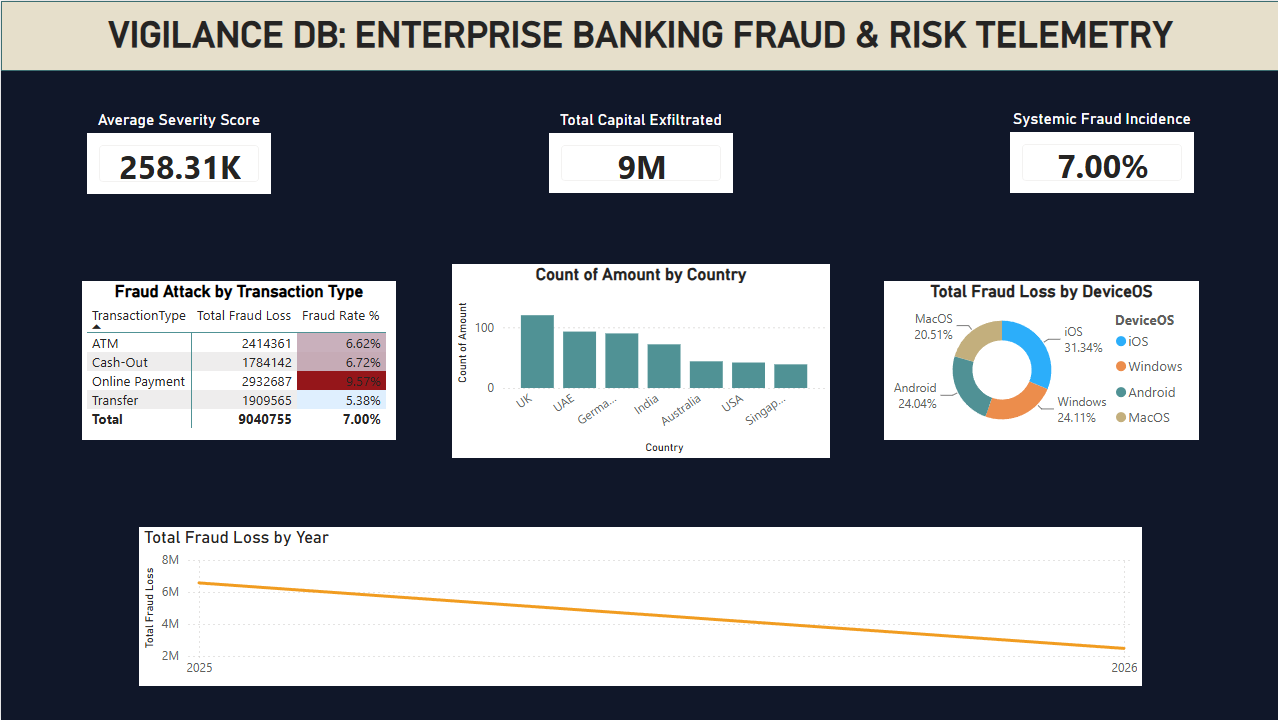

What the dashboard file says about the page in this screenshot:
{"tool":"powerbi","page":{"name":"Page 1","canvas":[1280,720],"ordinal":0},"visuals":[{"type":"shape","box":[0,0,1280,70],"z":0},{"type":"textbox","title":"VIGILANCE DB: ENTERPRISE BANKING FRAUD & RISK TELEMETRY","box":[81,12,1117,46],"z":1000},{"type":"cardVisual","title":"Total Capital Exfiltrated","fields":{"Data":["Dim_Customers.Total Fraud Loss"]},"box":[543,109,194,88],"z":2000},{"type":"cardVisual","title":" Systemic Fraud Incidence","fields":{"Data":["Dim_Customers.Fraud Rate %"]},"box":[1004,108,194,89],"z":3000},{"type":"cardVisual","title":"Average Severity Score","fields":{"Data":["Dim_Customers.Avg Fraud Attack Value"]},"box":[81,109,194,89],"z":4000},{"type":"pivotTable","title":"Fraud Attack by Transaction Type","fields":{"Rows":["Fact_Transactions.TransactionType"],"Values":["Dim_Customers.Total Fraud Loss","Dim_Customers.Fraud Rate %"]},"box":[81,280,314,159],"z":4001},{"type":"donutChart","fields":{"Category":["Dim_Devices.DeviceOS"],"Y":["Dim_Customers.Total Fraud Loss"]},"box":[883,280,315,159],"z":4002},{"type":"lineChart","fields":{"Category":["Fact_Transactions.Date.Variation.Date Hierarchy.Year","Fact_Transactions.Date.Variation.Date Hierarchy.Quarter","Fact_Transactions.Date.Variation.Date Hierarchy.Month","Fact_Transactions.Date.Variation.Date Hierarchy.Day"],"Y":["Dim_Customers.Total Fraud Loss"]},"box":[138,526,1003,159],"z":4003},{"type":"lineStackedColumnComboChart","fields":{"Y":["CountNonNull(Fact_Transactions.Amount)"],"Category":["Dim_Customers.Country"]},"box":[451,263,378,194],"z":4004}]}

Visuals, with their boxes in screenshot pixels (x1, y1, x2, y2), scaled from the page's 1280x720 canvas onto the 1278x720 screenshot:
shape: (0,0,1277,70)
"VIGILANCE DB: ENTERPRISE BANKING FRAUD & RISK TELEMETRY" textbox: (81,12,1196,58)
"Total Capital Exfiltrated" cardVisual: (542,109,736,197)
" Systemic Fraud Incidence" cardVisual: (1002,108,1196,197)
"Average Severity Score" cardVisual: (81,109,275,198)
"Fraud Attack by Transaction Type" pivotTable: (81,280,394,439)
donutChart - Dim_Devices.DeviceOS x Dim_Customers.Total Fraud Loss: (882,280,1196,439)
lineChart - Fact_Transactions.Date.Variation.Date Hierarchy.Year x Fact_Transactions.Date.Variation.Date Hierarchy.Quarter: (138,526,1139,685)
lineStackedColumnComboChart - CountNonNull(Fact_Transactions.Amount) x Dim_Customers.Country: (450,263,828,457)
